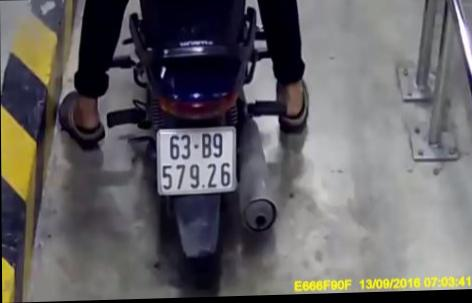LP: (155, 127, 238, 196)
